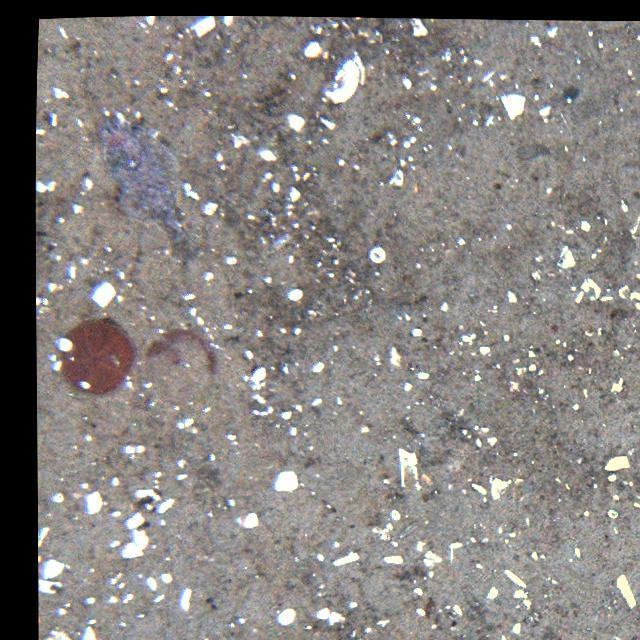flatfish: (94, 112, 193, 242)
